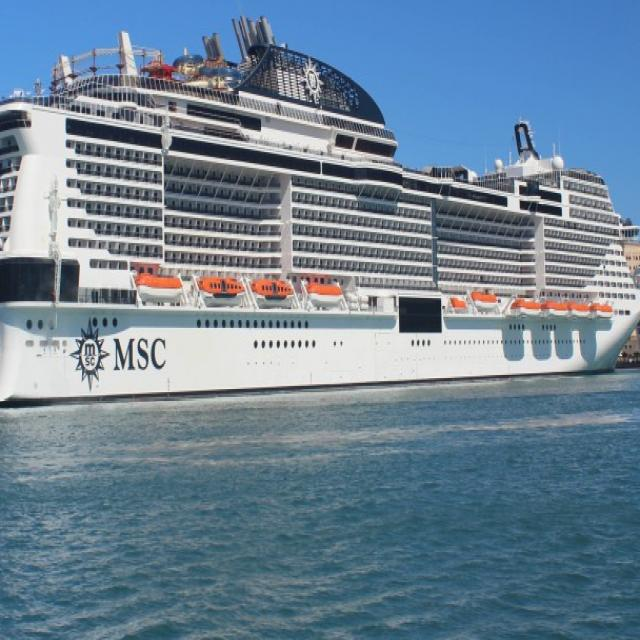cruises: (1, 9, 640, 423)
